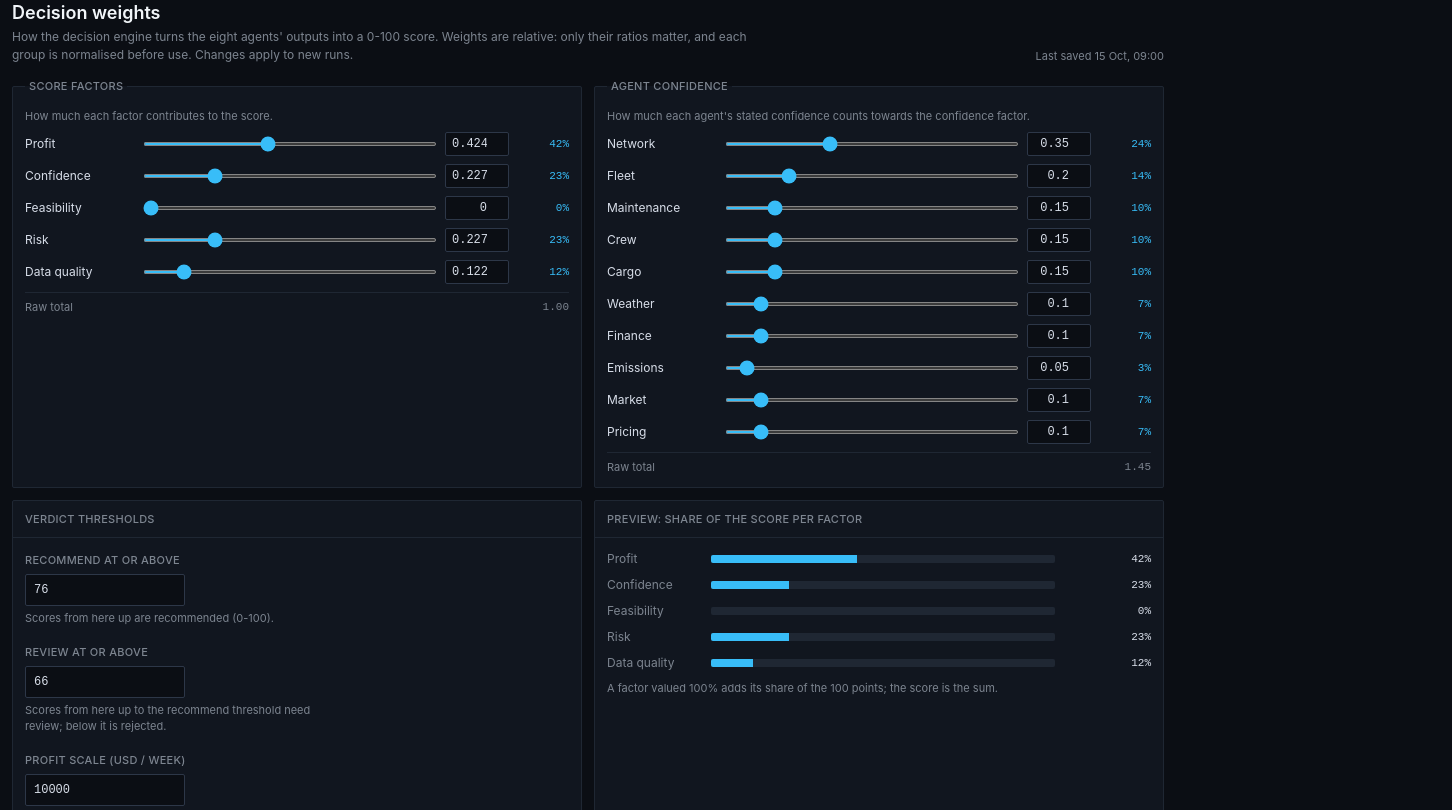
Scenario: WeightsPage › blocks saving and lists every problem when thresholds are inverted
Expected: the heading "Decision weights" is shown, x1=12 y1=2 x2=160 y2=23
Replace the text in the number field labelled "Review at or above" with "90" at (105, 682), box x1=25 y1=666 x2=185 y2=698
(page scrolled)
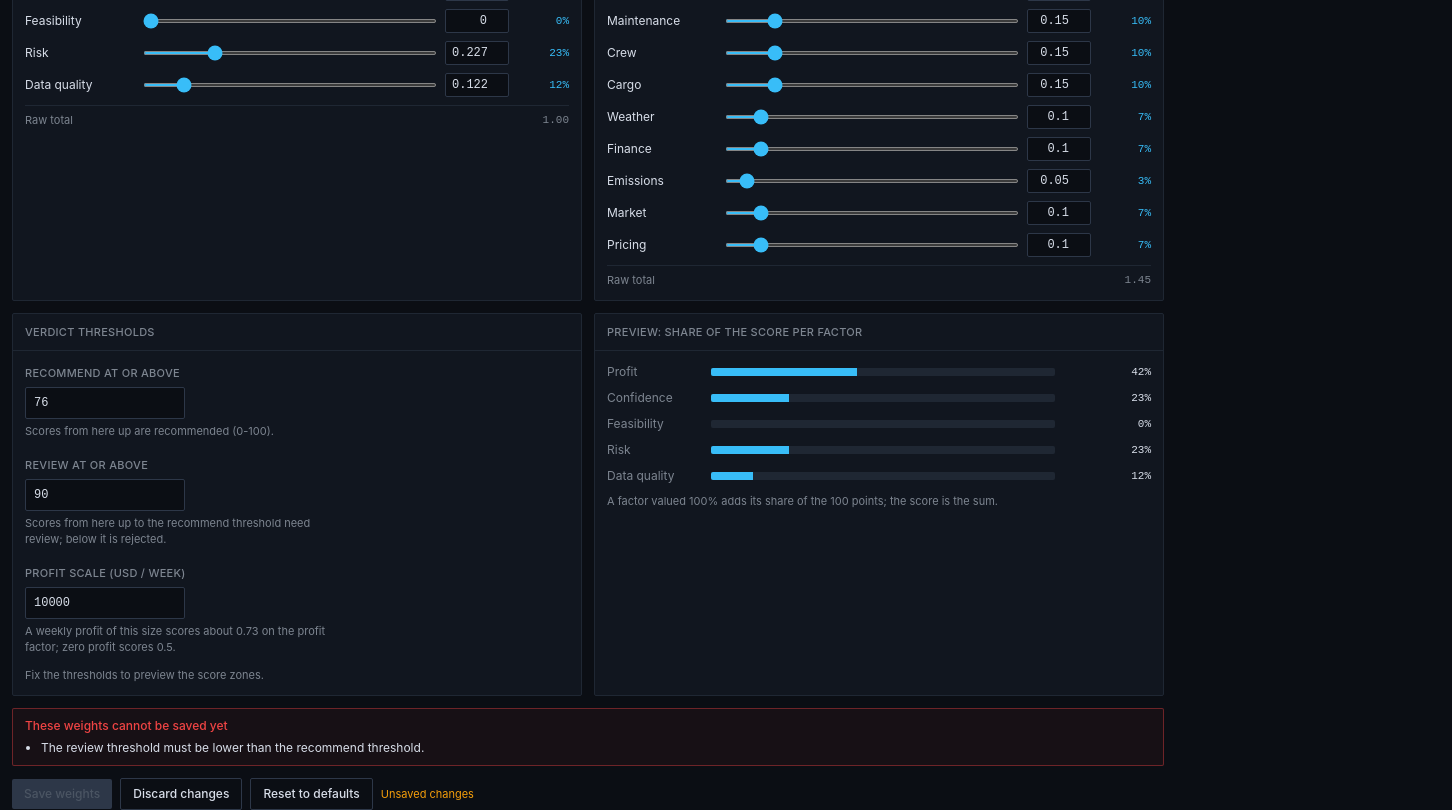
Expected: the button "Save weights" is disabled, x1=12 y1=779 x2=112 y2=809
Now the message with test id "weights-errors" shows "The review threshold must be lower than the recommend threshold.", box x1=41 y1=740 x2=424 y2=755
Now the text "Fix the thresholds to preview the score zones." is shown, box x1=25 y1=668 x2=264 y2=682
